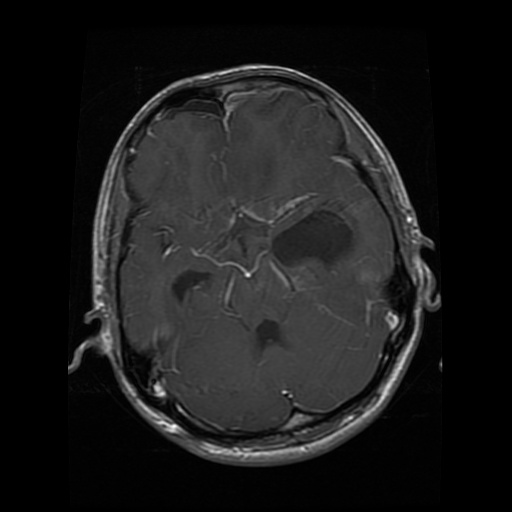glioma: (271, 205, 355, 268)
